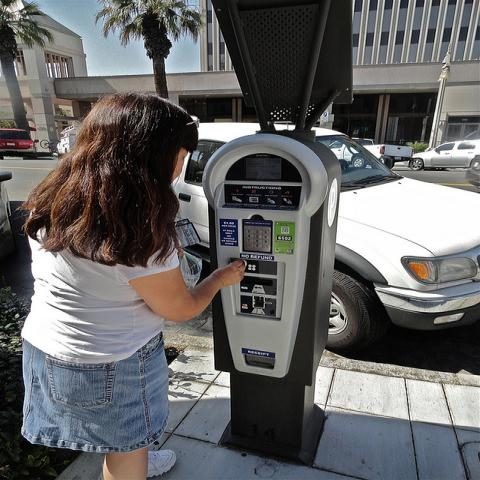car: (174, 119, 477, 354), (406, 139, 479, 172), (0, 128, 39, 154)
truck: (325, 137, 415, 170)
